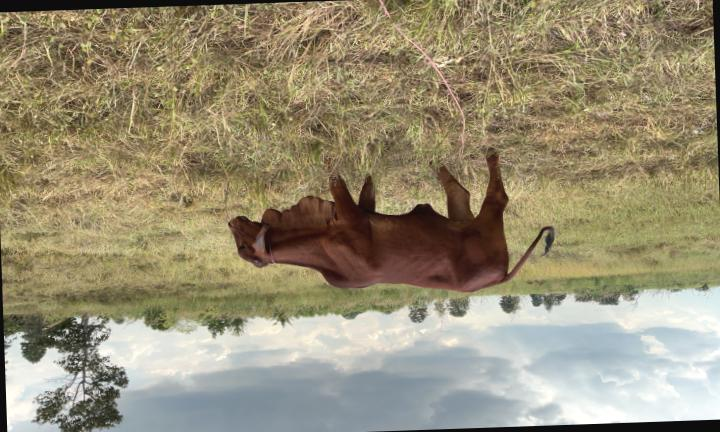Brahman: (229, 155, 555, 292)
